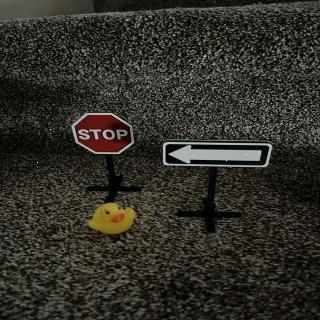duck_regular: (89, 204, 138, 236)
sign_oneway_left: (162, 141, 274, 170)
sign_stop: (73, 115, 136, 160)
